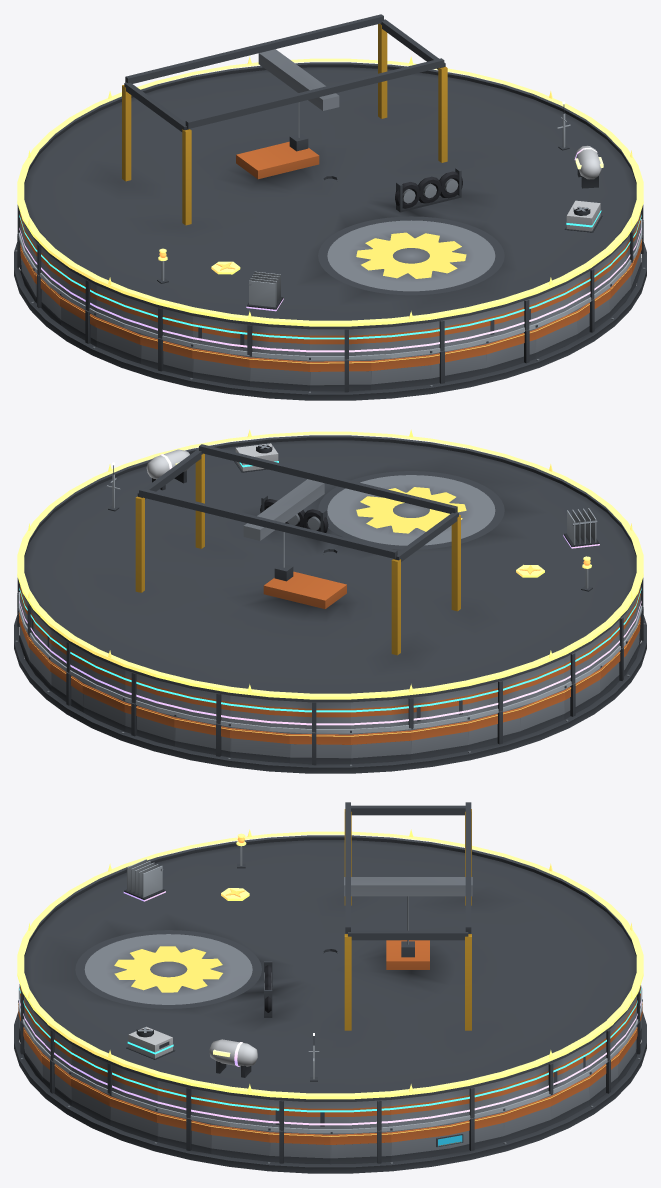
File: parts_works_xl.glb
The picture shows the model from 3 angles, top to bottom: view 1: azimuth 30°, elevation 25°; view 2: azimuth 150°, elevation 25°; view 3: azimuth 270°, elevation 25°; orthographic projection.
Parts seen in each view (by area): view 1: Roof, Base, L4, Wall_21, Wall_20, Wall_22, Wall_19, Wall_23, Wall_18, Wall_24, Upper_21, Upper_20 (+18 smaller); view 2: Roof, Base, Wall_10, L4, Wall_11, Wall_09, Wall_12, Wall_08, Wall_13, Wall_07, Upper_10, Upper_11 (+21 smaller); view 3: Roof, Base, L4, Wall_00, Wall_31, Wall_30, Wall_01, Wall_29, Wall_02, Upper_00, Wall_28, Wall_03 (+19 smaller).
Part boxes in pixels (bbox=[...]): Roof: bbox=[24, 14, 636, 329]; Base: bbox=[14, 242, 646, 400]; L4: bbox=[246, 145, 603, 311]; Wall_21: bbox=[310, 359, 371, 392]; Wall_20: bbox=[249, 355, 309, 391]; Wall_22: bbox=[371, 354, 430, 390]; Wall_19: bbox=[192, 347, 249, 386]; Wall_23: bbox=[430, 343, 486, 384]; Wall_18: bbox=[140, 333, 192, 377]; Wall_24: bbox=[486, 328, 536, 373]; Upper_21: bbox=[310, 328, 370, 359]; Upper_20: bbox=[249, 325, 309, 355]; Roof: bbox=[24, 435, 636, 702]; Base: bbox=[14, 615, 646, 773]; Wall_10: bbox=[289, 732, 350, 765]; L4: bbox=[146, 449, 599, 548]; Wall_11: bbox=[351, 729, 411, 764]; Wall_09: bbox=[230, 727, 289, 763]; Wall_12: bbox=[411, 720, 468, 759]; Wall_08: bbox=[174, 714, 230, 757]; Wall_13: bbox=[468, 706, 520, 750]; Wall_07: bbox=[124, 701, 174, 746]; Upper_10: bbox=[290, 701, 350, 732]; Upper_11: bbox=[351, 698, 411, 728]; Roof: bbox=[24, 802, 636, 1101]; Base: bbox=[14, 1012, 646, 1173]; L4: bbox=[123, 859, 257, 1077]; Wall_00: bbox=[330, 1131, 391, 1164]; Wall_31: bbox=[269, 1131, 330, 1163]; Wall_30: bbox=[211, 1123, 269, 1161]; Wall_01: bbox=[391, 1123, 449, 1161]; Wall_29: bbox=[157, 1112, 211, 1153]; Wall_02: bbox=[449, 1112, 503, 1153]; Upper_00: bbox=[330, 1100, 391, 1130]; Wall_28: bbox=[109, 1094, 157, 1141]; Wall_03: bbox=[503, 1095, 551, 1141].
Size of the model in its own units: 23.15 by 6.93 by 23.15.
